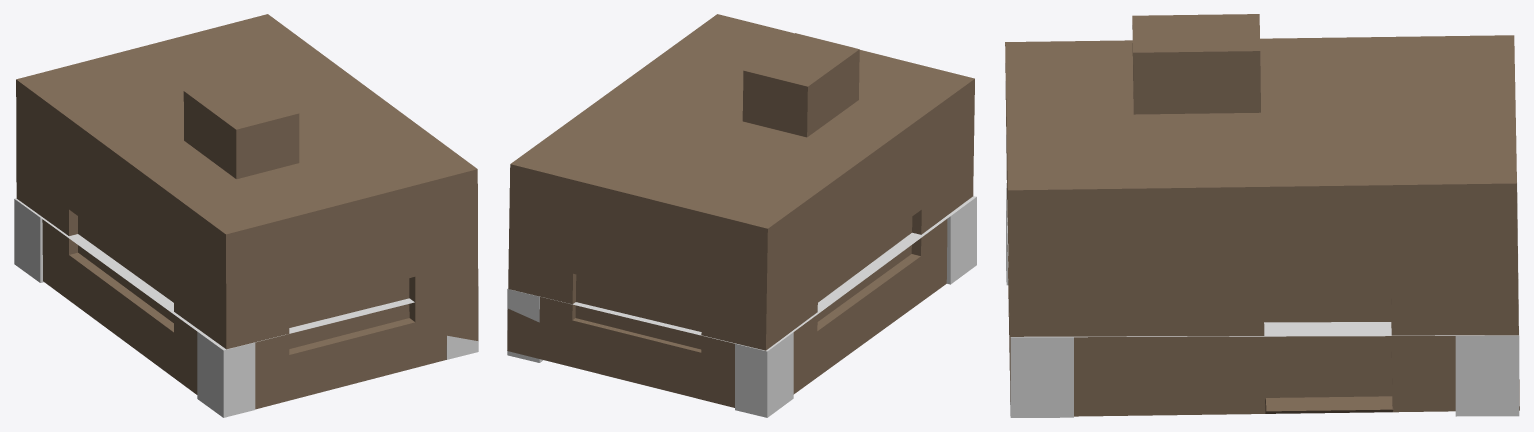
Rendered from Building0.fbx.
3 views of the same model, side by side, from view 1: azimuth 30°, elevation 25°; view 2: azimuth 150°, elevation 25°; view 3: azimuth 270°, elevation 25° (orthographic). The views are drawn at different scales.
Parts seen in each view (by area): view 1: Cube, Plane; view 2: Cube, Plane; view 3: Cube, Plane.
Boxes of the visible parts, x1,y1,x2,y2 form: Cube: (16,14,478,409); Plane: (14,198,478,417); Cube: (507,14,974,407); Plane: (507,196,976,417); Cube: (1005,14,1519,416); Plane: (1006,182,1519,417).
Bounding box in the file's own units: 137 × 120 × 193.
